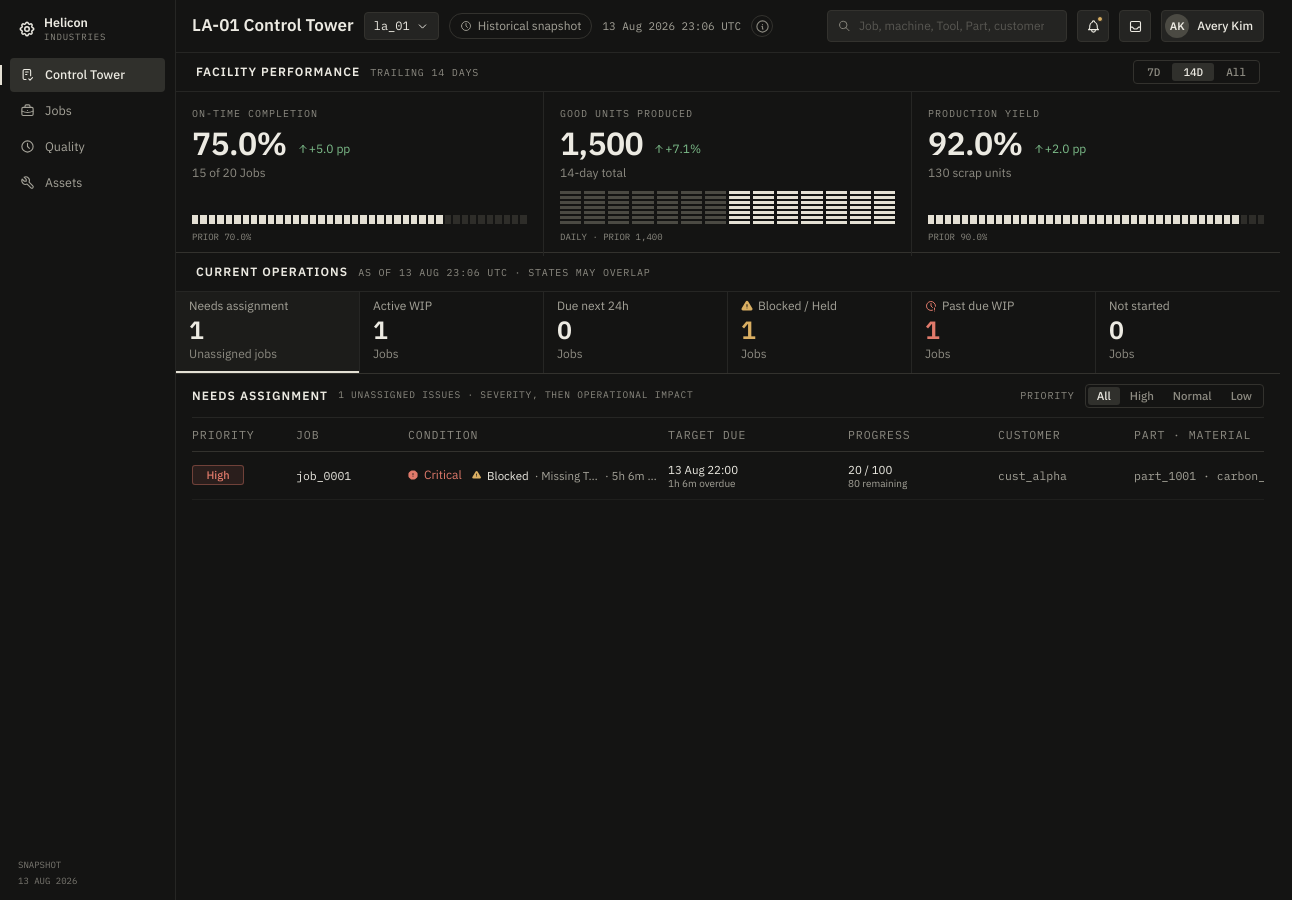
ControlTowerScreen › changes KPI windows and priority refinement
Click the button "7D": [1154, 72] box [1136,63,1171,81]
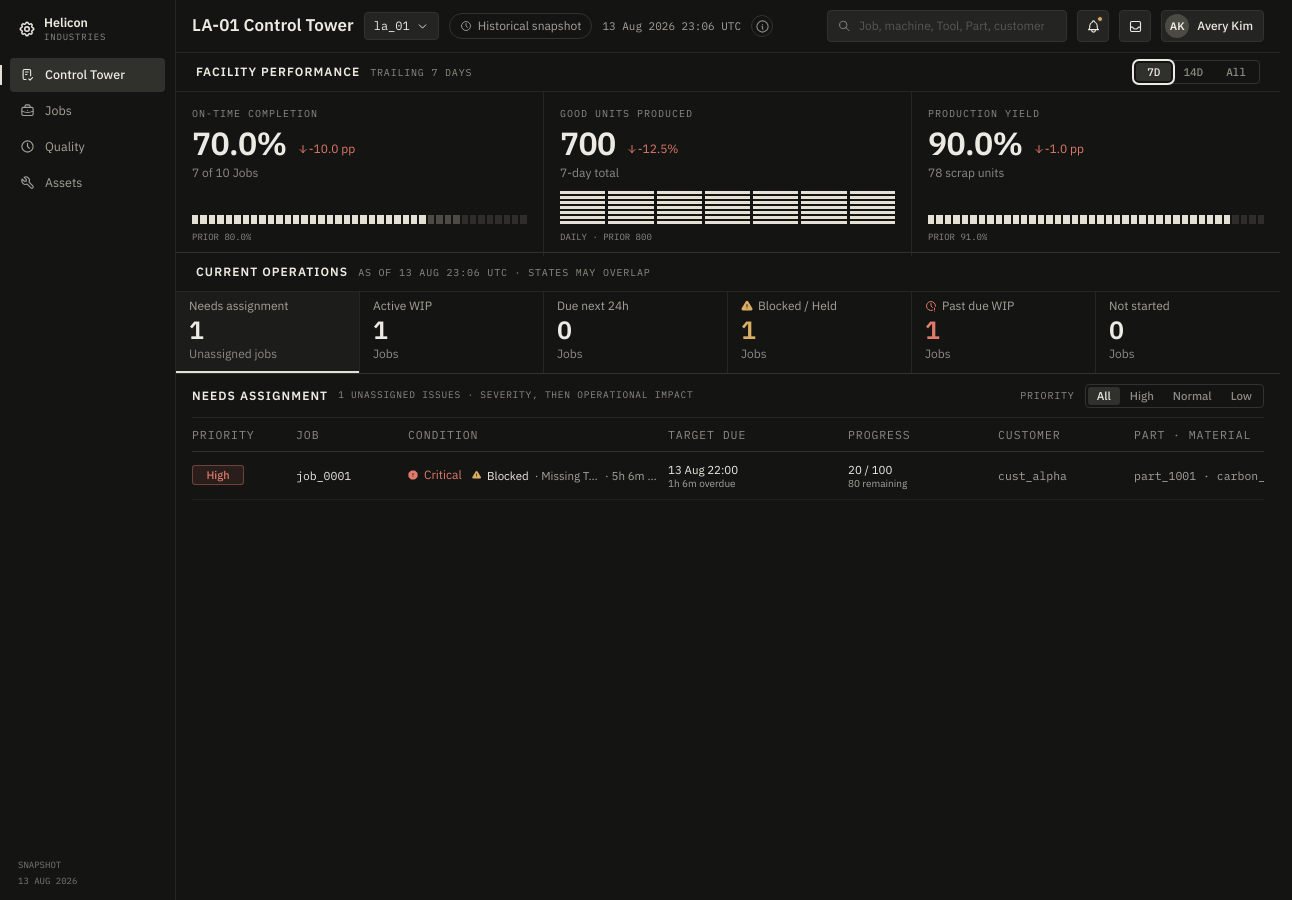
Result: the text "70.0%" is shown at [192,127,287,159]
Click the button "All" in the row of "TRAILING 7 DAYS": [1236, 72] box [1215,63,1257,81]
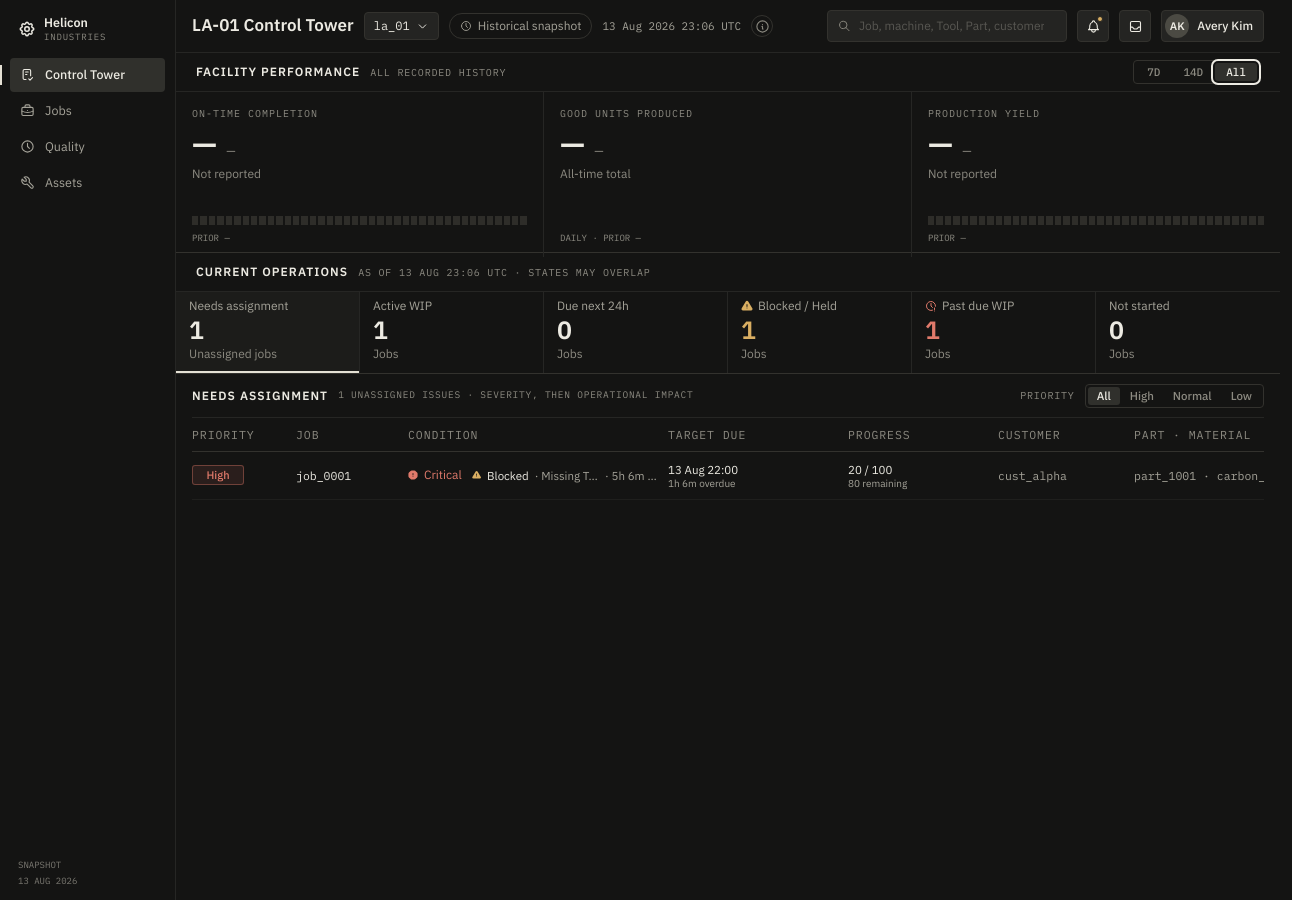
Result: the text "ALL RECORDED HISTORY" is shown at [370,64,506,80]
Click the button "Low": [1241, 396] box [1222,386,1261,404]
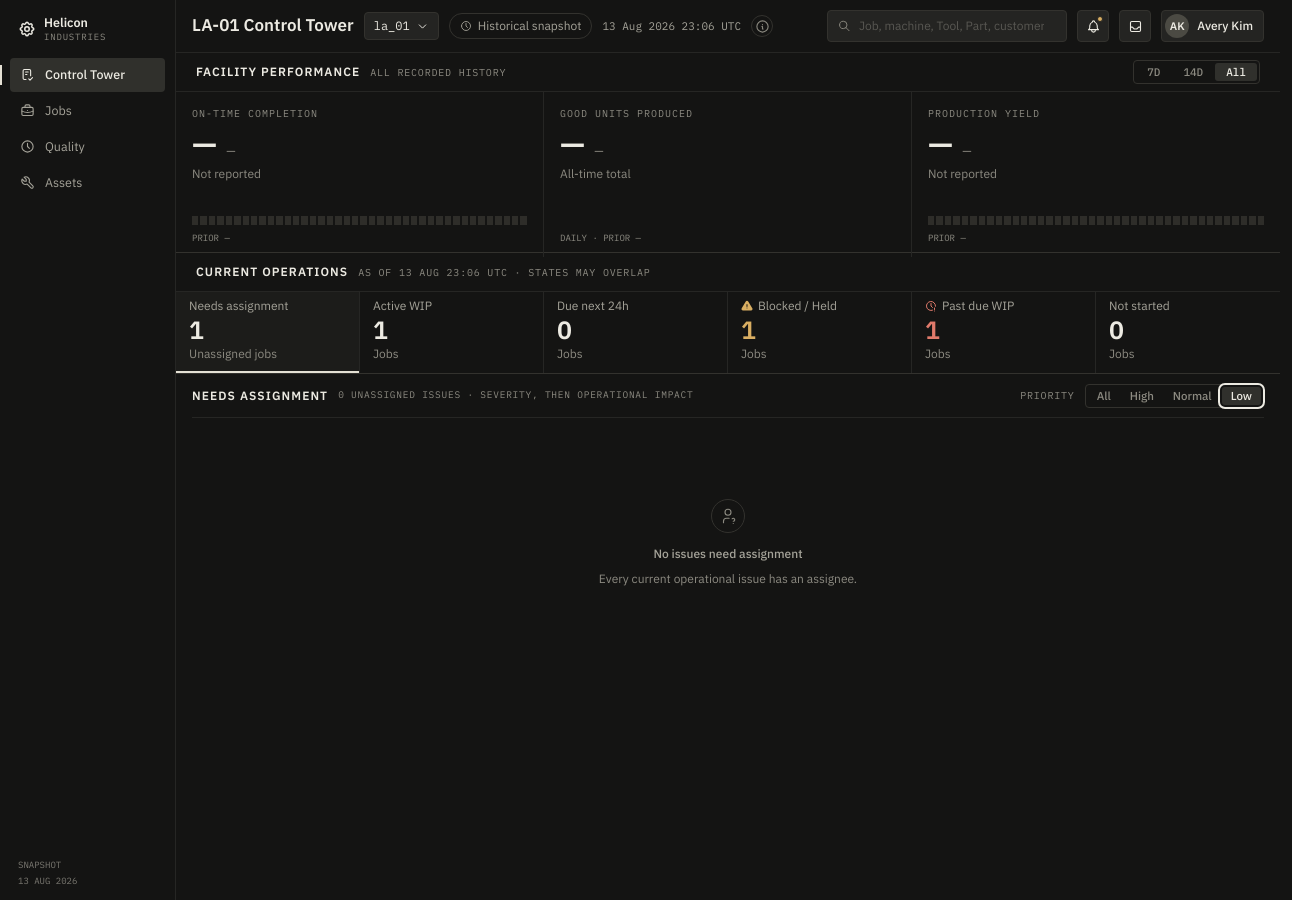
Result: the text "No issues need assignment" is shown at [653,544,803,562]
